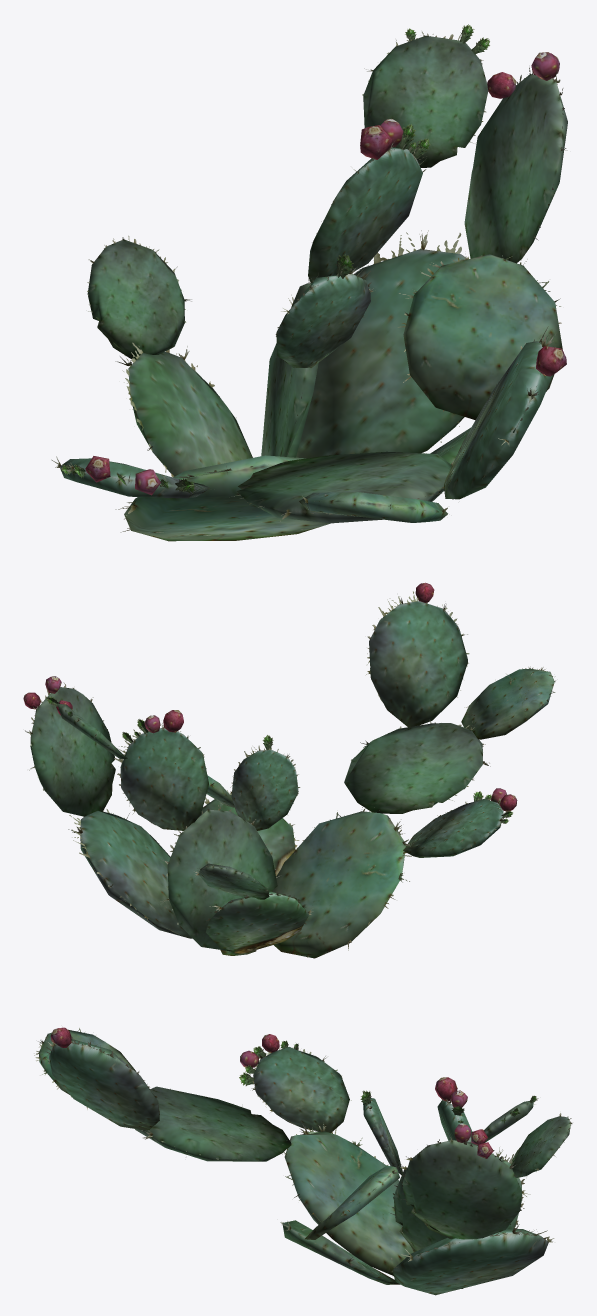
The model's file is DesertPlant02A.FBX.
3 renders of one model, top to bottom at view 1: azimuth 30°, elevation 25°; view 2: azimuth 150°, elevation 25°; view 3: azimuth 270°, elevation 25°, orthographic. The views are drawn at different scales.
Parts seen in each view (by area): view 1: DesertPlant02A; view 2: DesertPlant02A; view 3: DesertPlant02A.
Boxes of the visible parts, box(x1,y1,x2,y2) form: DesertPlant02A: box(51, 24, 567, 541); DesertPlant02A: box(23, 582, 555, 958); DesertPlant02A: box(34, 1027, 572, 1295).
Size of the model in its own units: 10.85 by 6.74 by 12.26.
